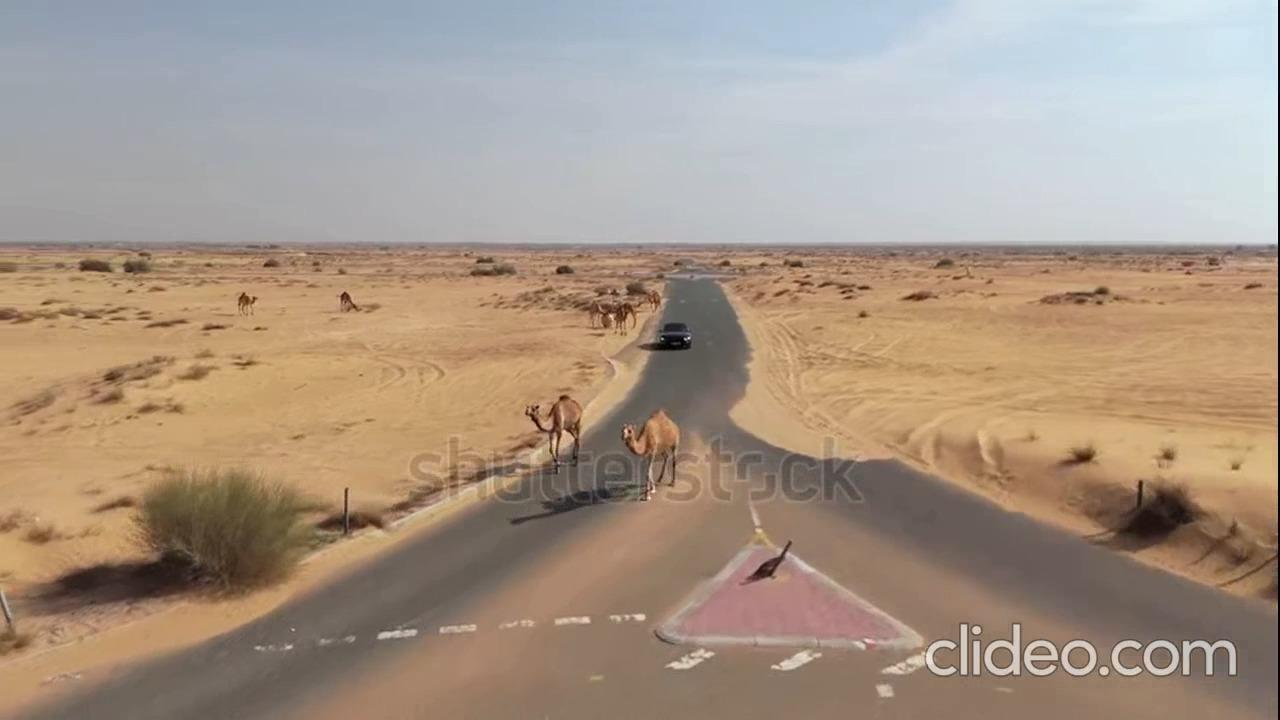camel: (616, 398, 689, 492), (523, 381, 586, 473)
